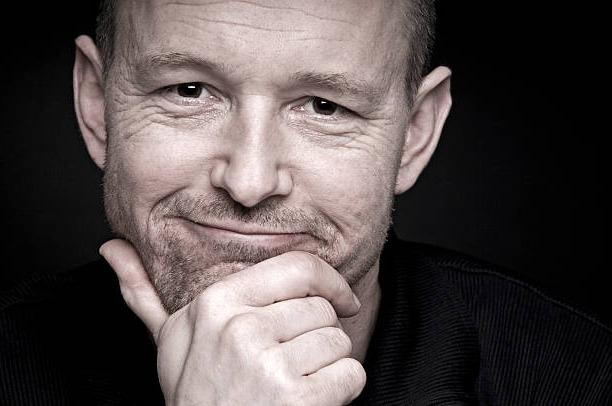Wrinkles: (167, 2, 356, 24), (194, 16, 303, 31), (330, 135, 380, 155), (332, 146, 373, 157), (126, 123, 152, 139), (290, 39, 341, 41), (369, 119, 389, 120)
